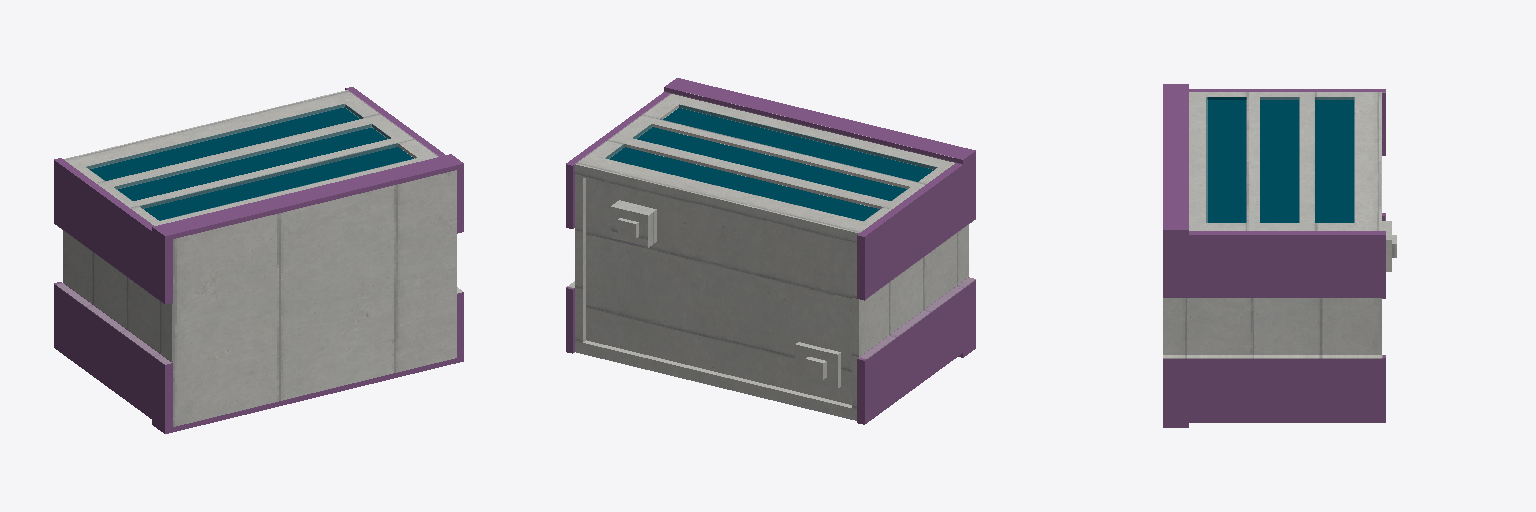
3 renders of one model, left to right at view 1: azimuth 30°, elevation 25°; view 2: azimuth 150°, elevation 25°; view 3: azimuth 270°, elevation 25°, orthographic.
Visible parts, largest first — view 1: buildings-industrial-03_Cube.013; view 2: buildings-industrial-03_Cube.013; view 3: buildings-industrial-03_Cube.013.
Boxes of the visible parts, box(x1,y1,x2,y2) form: buildings-industrial-03_Cube.013: box(54, 87, 463, 433); buildings-industrial-03_Cube.013: box(566, 78, 975, 424); buildings-industrial-03_Cube.013: box(1163, 84, 1396, 427).
Bounding box in the file's own units: 9.12 × 5.77 × 6.19.
Materials: 1 (1 with a texture image).